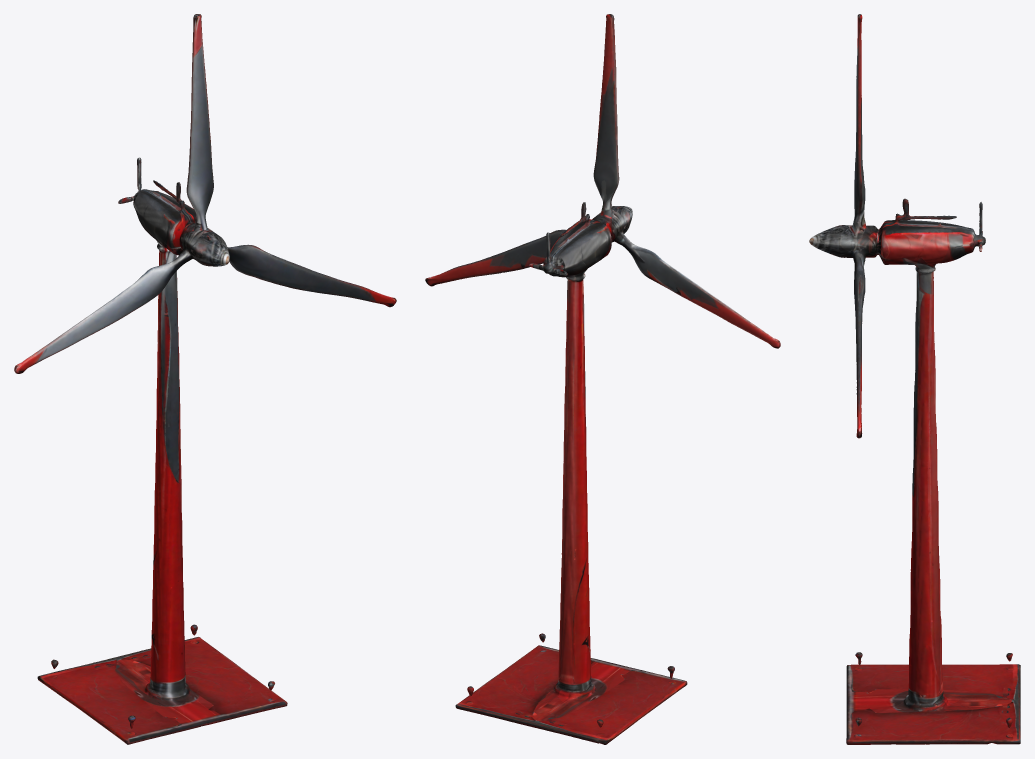
Rendered from Solar.glb.
The picture shows the model from 3 angles, left to right: view 1: azimuth 30°, elevation 25°; view 2: azimuth 150°, elevation 25°; view 3: azimuth 270°, elevation 25°; orthographic projection. The views are drawn at different scales.
Bounding box in the file's own units: 1.13 × 2 × 0.5561.
Materials: 1 (1 with a texture image).
